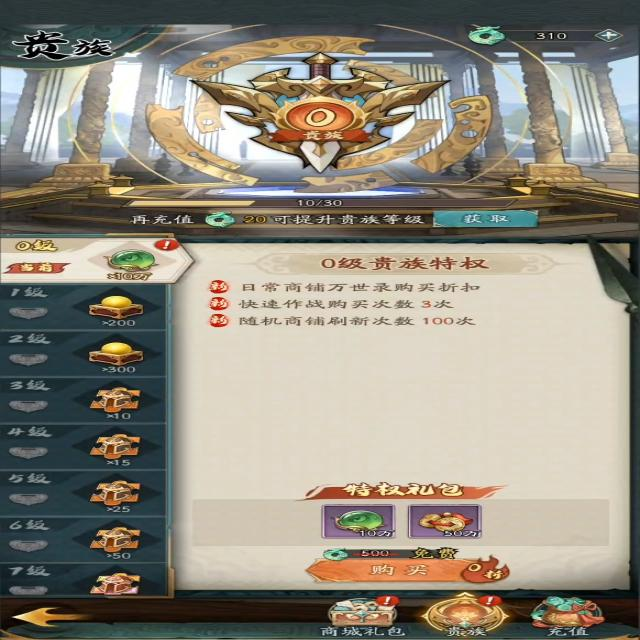hint-reddot: (144, 238, 191, 254), (370, 593, 401, 607), (474, 594, 502, 608)
operation-back: (2, 601, 100, 632)
operation-buy: (298, 557, 521, 585)
